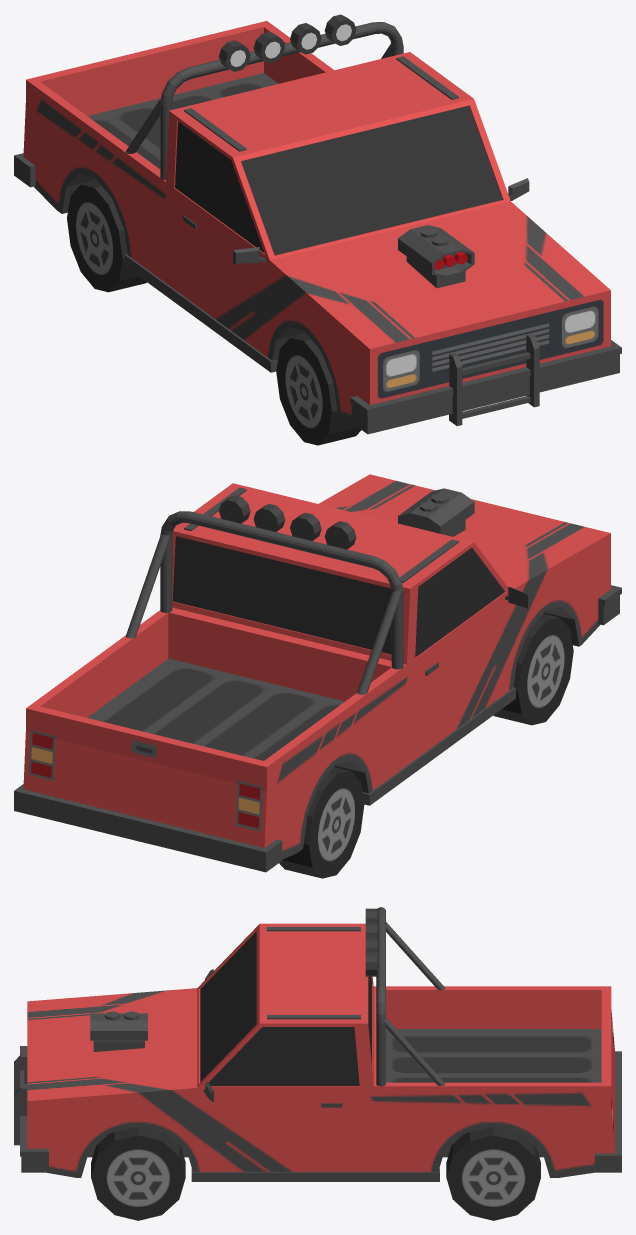
Rendered from Car_RedPickup.glb.
3 renders of one model, top to bottom at view 1: azimuth 30°, elevation 25°; view 2: azimuth 150°, elevation 25°; view 3: azimuth 270°, elevation 25°, orthographic. The views are drawn at different scales.
Visible parts, largest first — view 1: Object_141.001, wheel_2, wheel_4; view 2: Object_141.001, wheel_4, wheel_2; view 3: Object_141.001, wheel_1, wheel_3.
Part boxes in pixels (box(x1,y1,x2,y2)): Object_141.001: box(14, 14, 621, 434); wheel_2: box(276, 334, 361, 445); wheel_4: box(67, 180, 146, 292); Object_141.001: box(14, 474, 621, 872); wheel_4: box(279, 767, 364, 878); wheel_2: box(493, 613, 573, 725); Object_141.001: box(14, 907, 621, 1181); wheel_1: box(91, 1126, 185, 1220); wheel_3: box(446, 1126, 540, 1220).
Size of the model in its own units: 3.06 by 2.79 by 6.43.
1 material, 1 textured.
